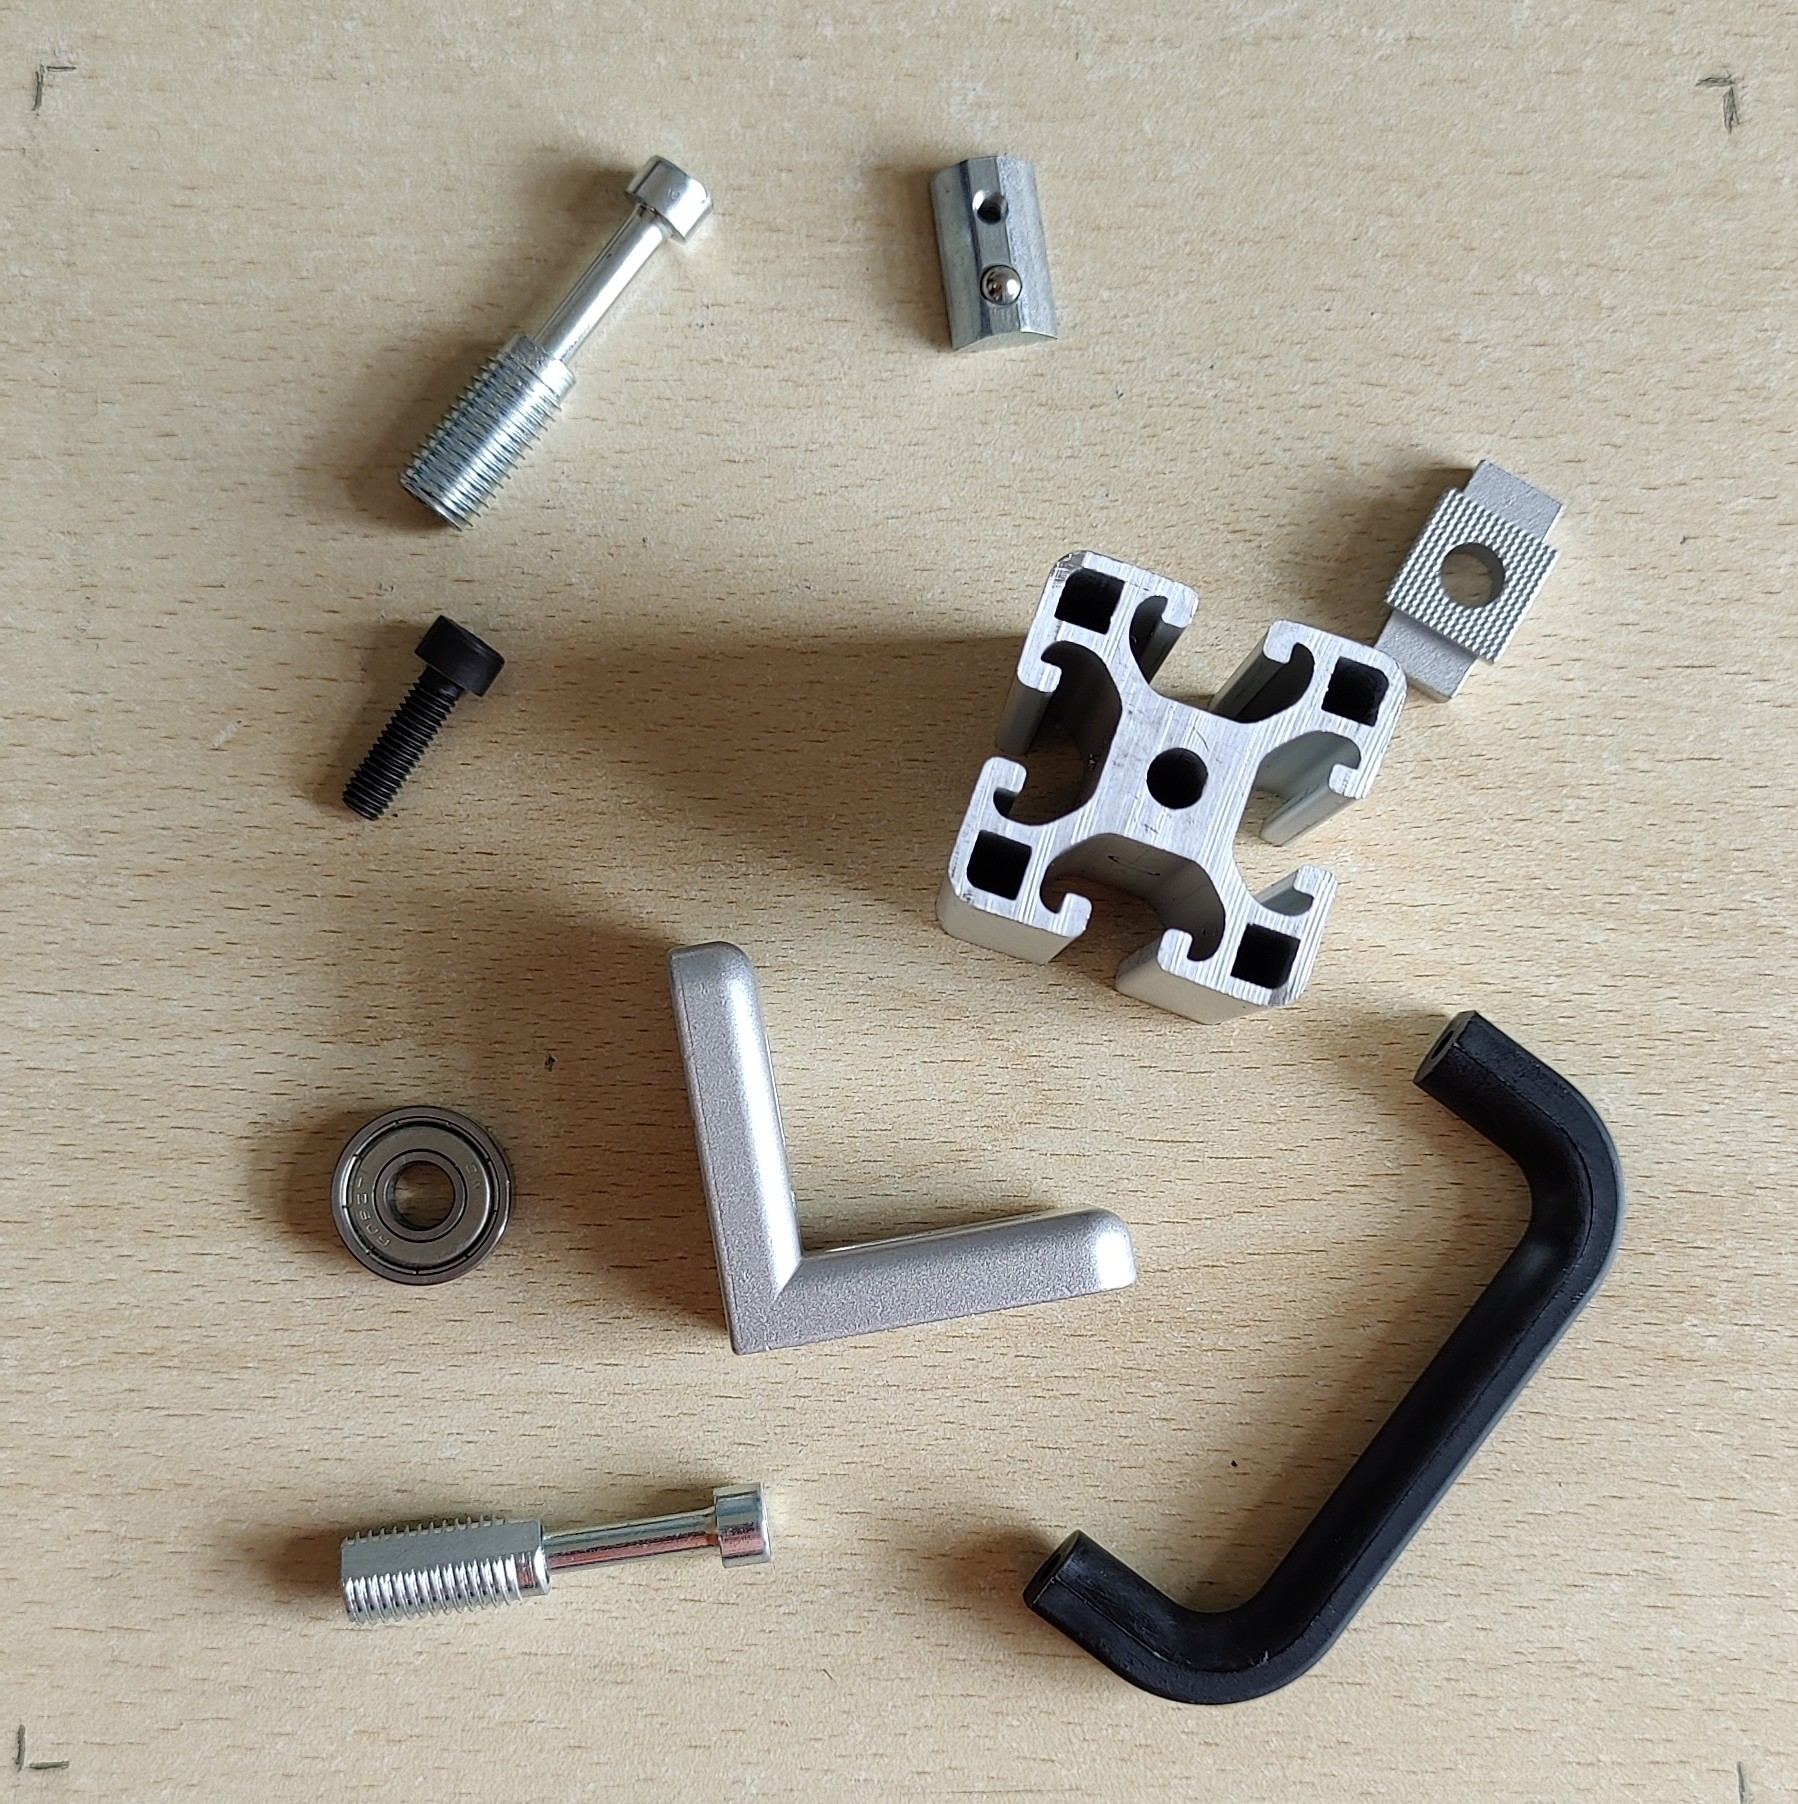Aluminium Extension: (932, 546, 1409, 1029)
Ball Bearing: (326, 1103, 517, 1289)
Multiwinkel: (664, 938, 1138, 1360)
Pull Handle: (1018, 1011, 1628, 1709)
Shoulder Socket Head Cap Screw: (392, 151, 716, 532), (336, 1478, 776, 1630)
Socket Head Cap Screw: (341, 612, 505, 826)
T Nut Square: (1370, 456, 1567, 708)
T Spring Nut: (924, 151, 1062, 357)
